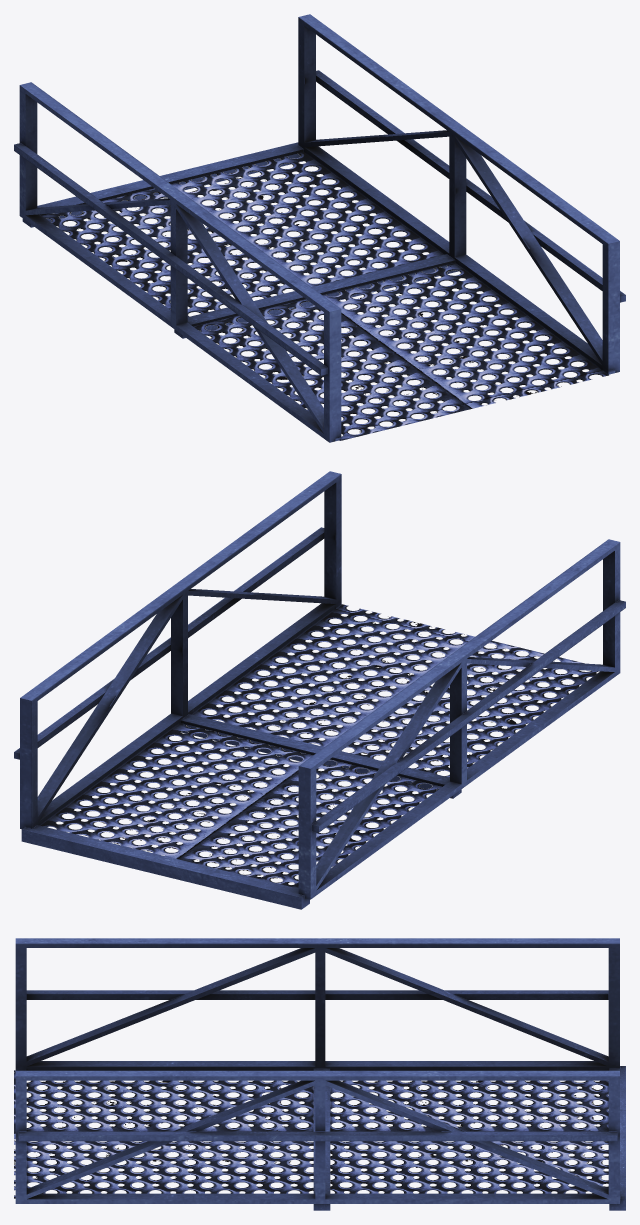
The model's file is WalkwayStraight.FBX.
3 views of the same model, one above another, from view 1: azimuth 30°, elevation 25°; view 2: azimuth 150°, elevation 25°; view 3: azimuth 270°, elevation 25° (orthographic). The views are drawn at different scales.
Parts seen in each view (by area): view 1: Object017, Object038; view 2: Object017, Object038; view 3: Object017, Object038.
Part boxes in pixels (x1,y1,x2,y2): Object017: (14, 14, 625, 442); Object038: (22, 142, 303, 227); Object017: (14, 471, 625, 899); Object038: (21, 825, 309, 909); Object017: (14, 938, 619, 1210); Object038: (609, 1066, 625, 1210).
Size of the model in its own units: 1598 by 702 by 2848.
